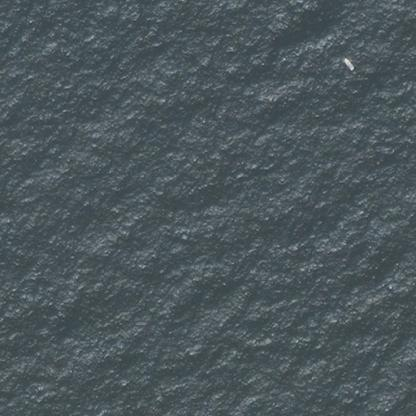ship: (338, 52, 358, 73)
